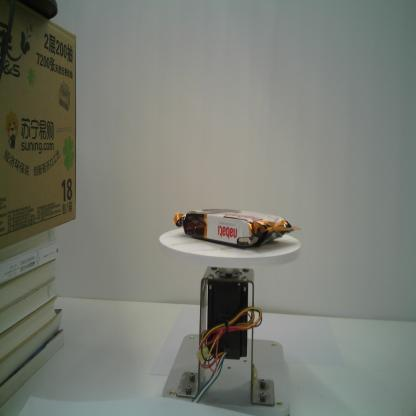Dessert: (171, 206, 305, 250)
